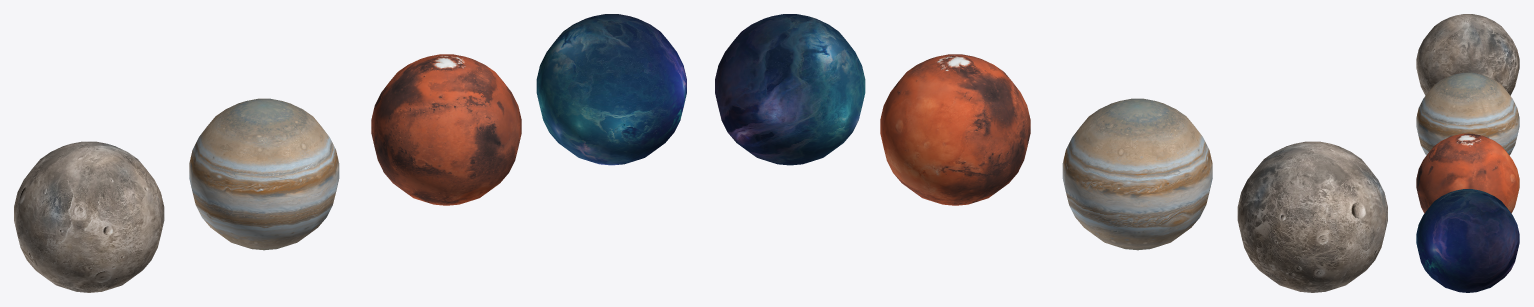
Rendered from Particle.fbx.
The picture shows the model from 3 angles, left to right: view 1: azimuth 30°, elevation 25°; view 2: azimuth 150°, elevation 25°; view 3: azimuth 270°, elevation 25°; orthographic projection. The views are drawn at different scales.
Parts seen in each view (by area): view 1: p1, p2, p, p3; view 2: p1, p2, p, p3; view 3: p3, p1, p, p2.
Part boxes in pixels (x1=…): p1: x1=189, y1=98, x2=339, y2=250; p2: x1=371, y1=54, x2=521, y2=205; p: x1=14, y1=141, x2=164, y2=292; p3: x1=536, y1=14, x2=686, y2=165; p1: x1=1062, y1=98, x2=1212, y2=250; p2: x1=880, y1=54, x2=1030, y2=205; p: x1=1237, y1=141, x2=1387, y2=292; p3: x1=715, y1=14, x2=865, y2=165; p3: x1=1416, y1=189, x2=1519, y2=292; p1: x1=1416, y1=72, x2=1519, y2=155; p: x1=1416, y1=14, x2=1519, y2=95; p2: x1=1416, y1=133, x2=1519, y2=213.
Size of the model in its own units: 1352 by 273 by 270.
